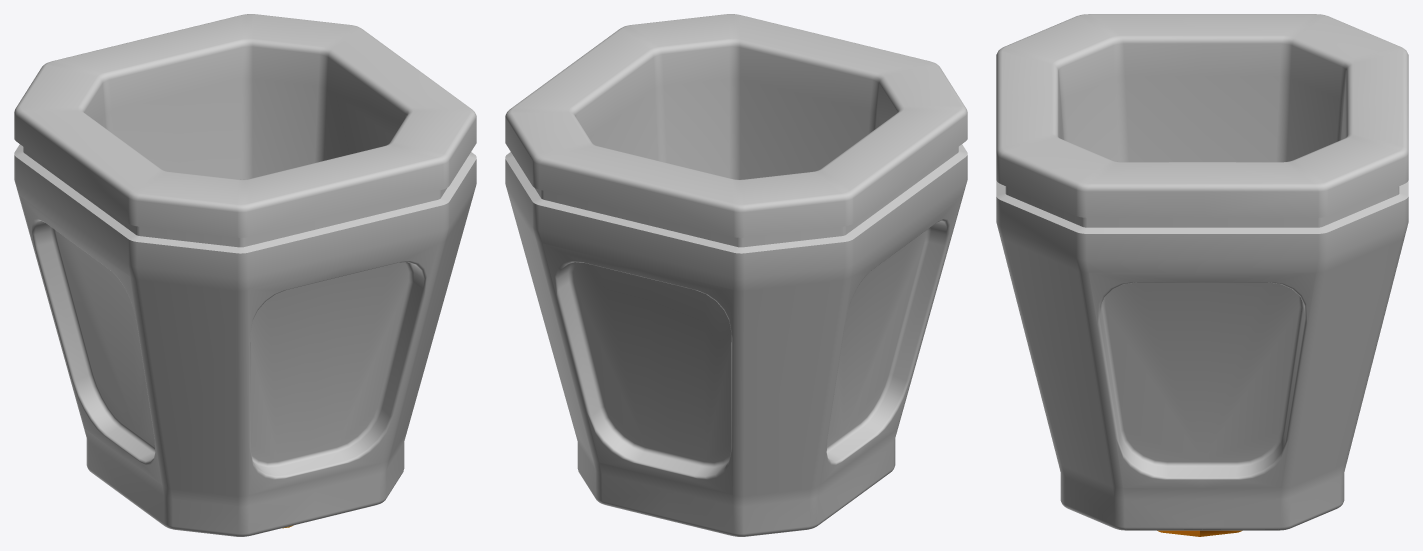
File: fant_trashcan.obj
The picture shows the model from 3 angles, left to right: view 1: azimuth 30°, elevation 25°; view 2: azimuth 150°, elevation 25°; view 3: azimuth 270°, elevation 25°; orthographic projection. The views are drawn at different scales.
Visible parts, largest first — view 1: fant_trashcan; view 2: fant_trashcan; view 3: fant_trashcan.
Boxes of the visible parts, x1=… form: fant_trashcan: x1=14, y1=14, x2=476, y2=536; fant_trashcan: x1=505, y1=14, x2=967, y2=536; fant_trashcan: x1=996, y1=14, x2=1408, y2=536.
Size of the model in its own units: 3 by 3.29 by 3.
